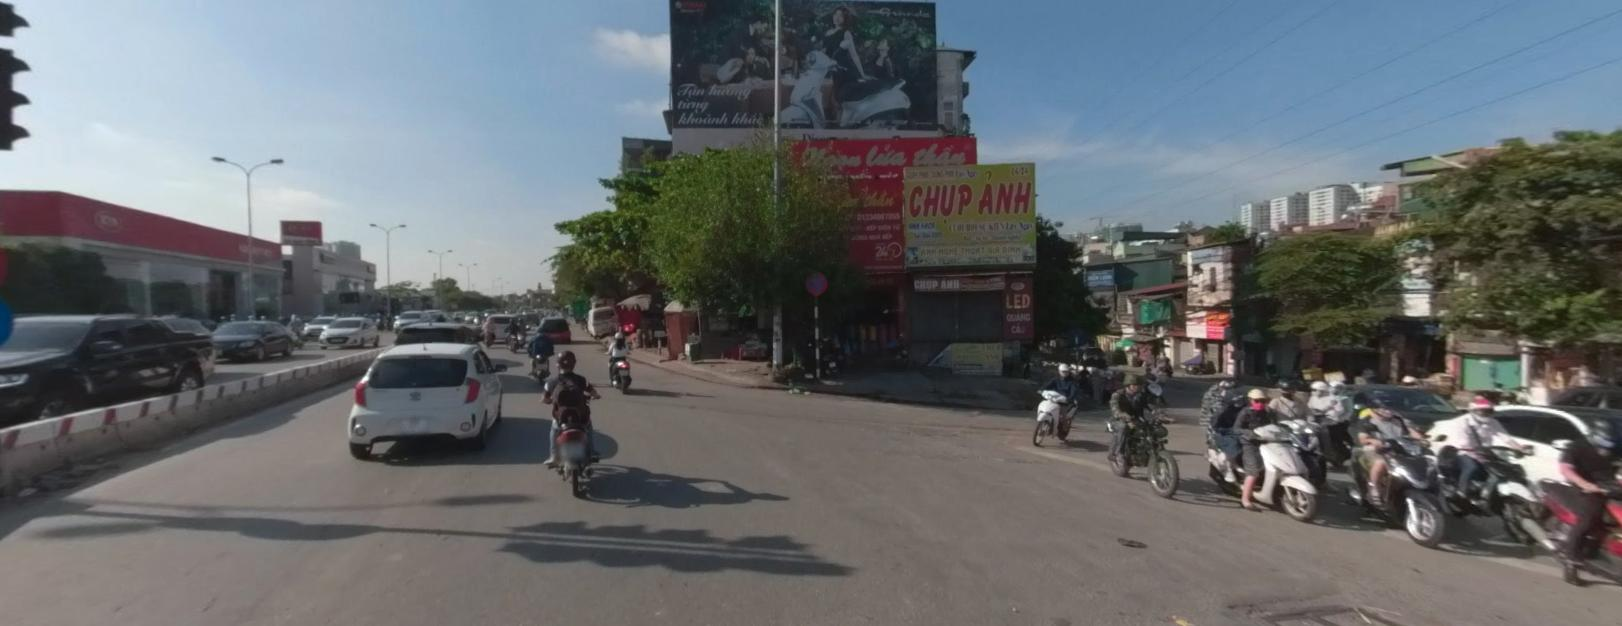Cam dung va do: (805, 270, 827, 292)
